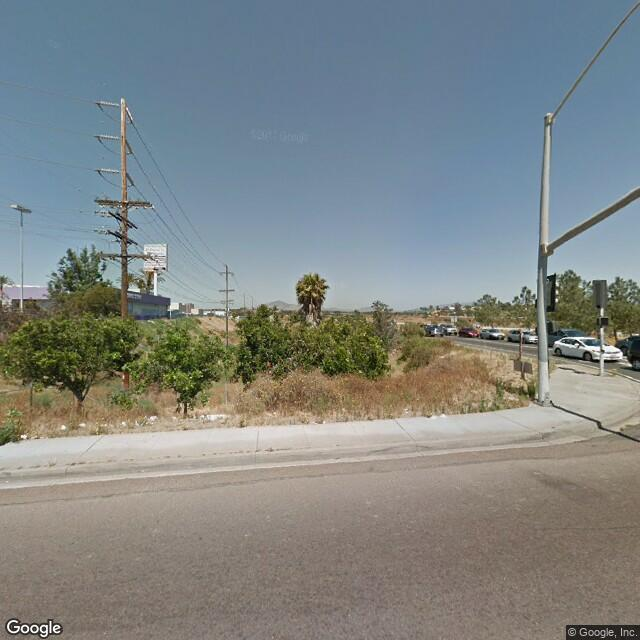litter: (145, 414, 157, 424), (58, 422, 68, 433), (18, 433, 31, 441), (429, 413, 449, 418), (120, 421, 129, 431), (79, 422, 87, 429), (134, 422, 140, 431)
